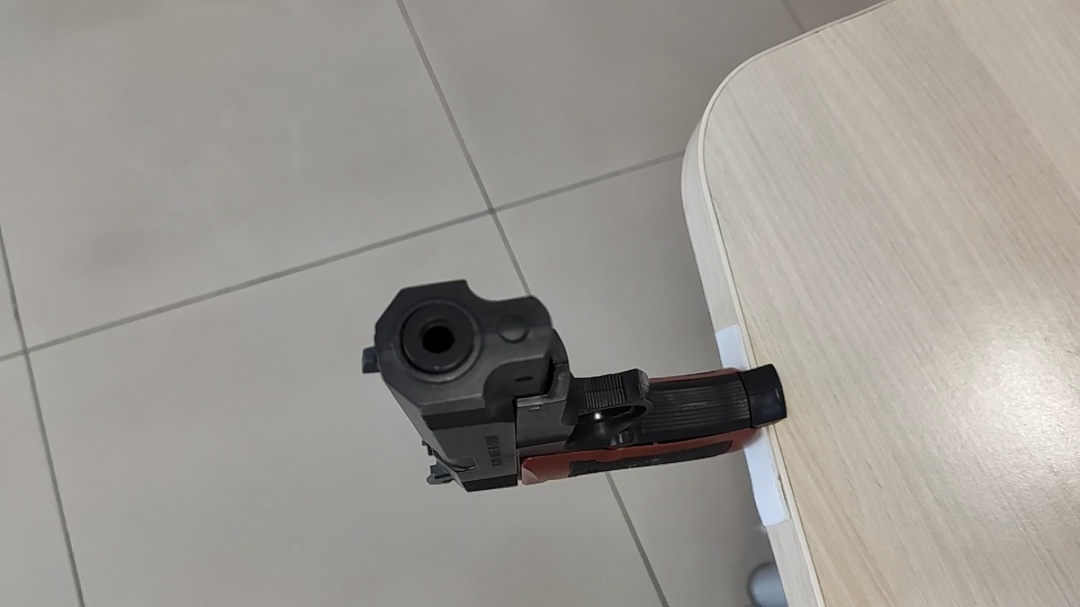gun: (361, 279, 789, 494)
